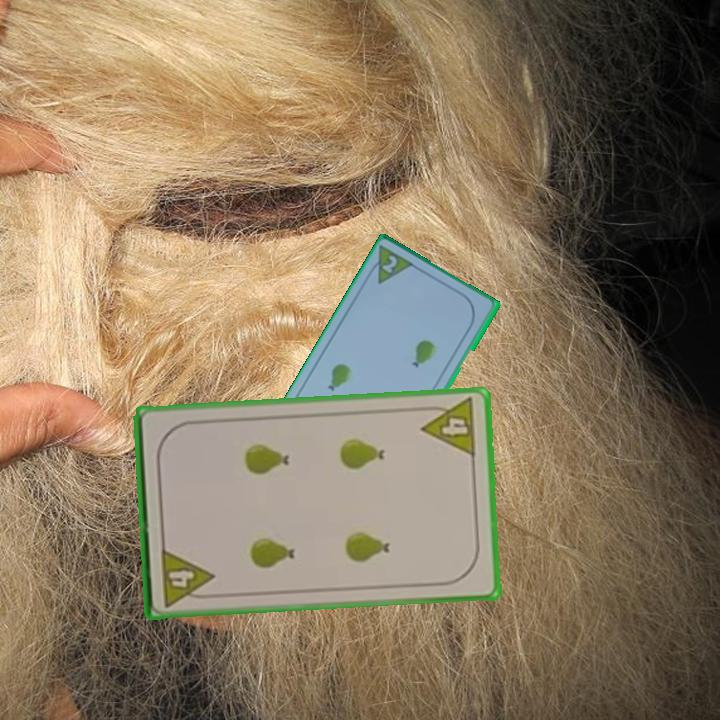2p: (378, 252, 401, 277)
4p: (417, 394, 479, 460), (157, 544, 217, 609)
